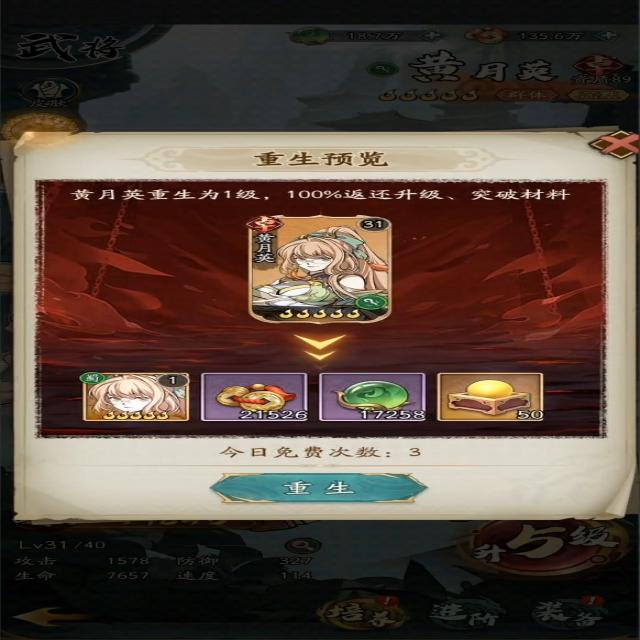operation-close: (590, 130, 640, 160)
operation-confirm: (213, 470, 430, 505)
